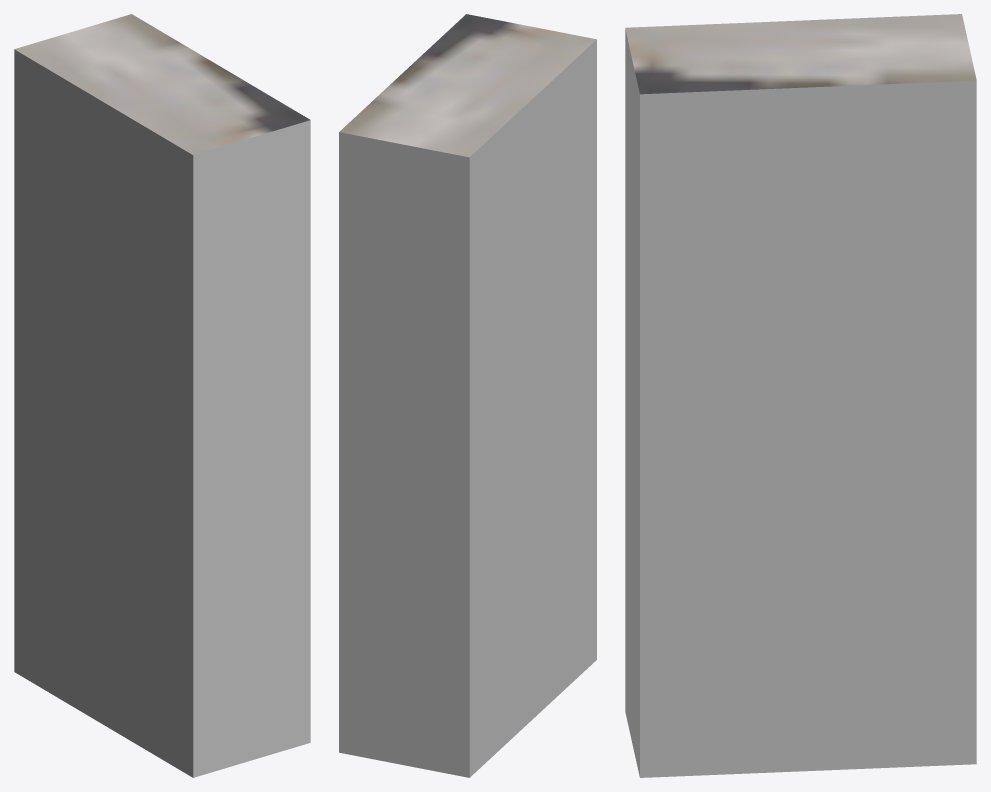
The model's file is DEBW_0010007THWP.gltf.
The picture shows the model from 3 angles, left to right: view 1: azimuth 30°, elevation 25°; view 2: azimuth 150°, elevation 25°; view 3: azimuth 270°, elevation 25°; orthographic projection. The views are drawn at different scales.
Parts seen in each view (by area): view 1: Z_UP; view 2: Z_UP; view 3: Z_UP.
Boxes of the visible parts, left/top/right/bottom form: Z_UP: left=14, top=14, right=310, bottom=777; Z_UP: left=339, top=14, right=596, bottom=777; Z_UP: left=625, top=14, right=976, bottom=777.
Bounding box in the file's own units: 1.93 × 7.66 × 3.57.
2 materials, 1 textured.
